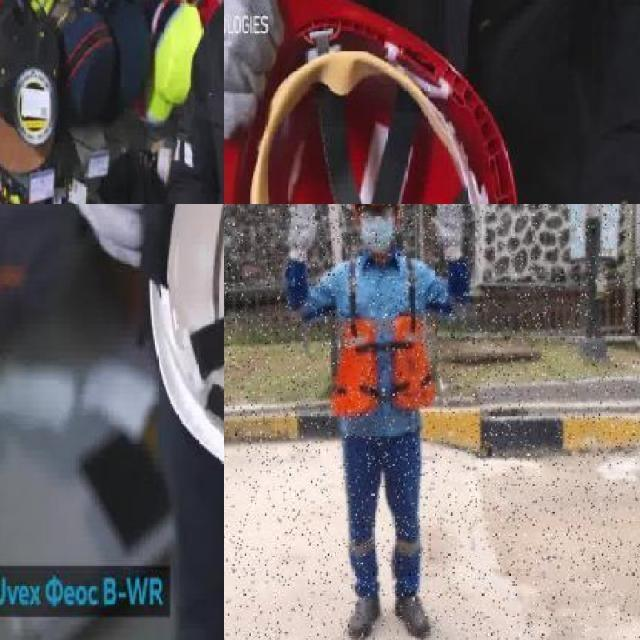apron: (224, 0, 303, 144), (52, 204, 161, 272), (428, 204, 471, 263), (284, 204, 321, 268)
